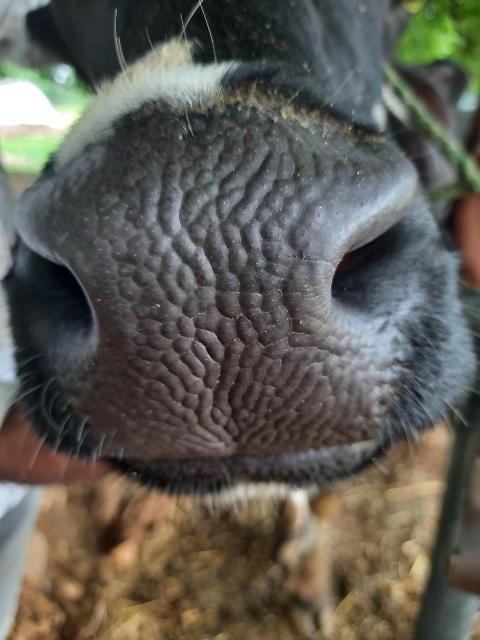Muzzle: (38, 153, 374, 453)
